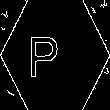P_N: (39, 30, 71, 80)
